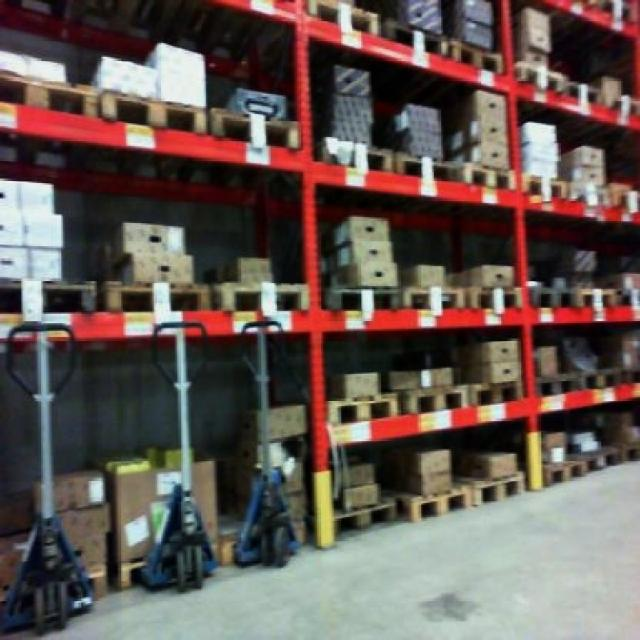pallets: (0, 368, 32, 489), (328, 226, 395, 278), (328, 97, 368, 158), (388, 368, 438, 408), (328, 386, 389, 417), (108, 286, 151, 309)
